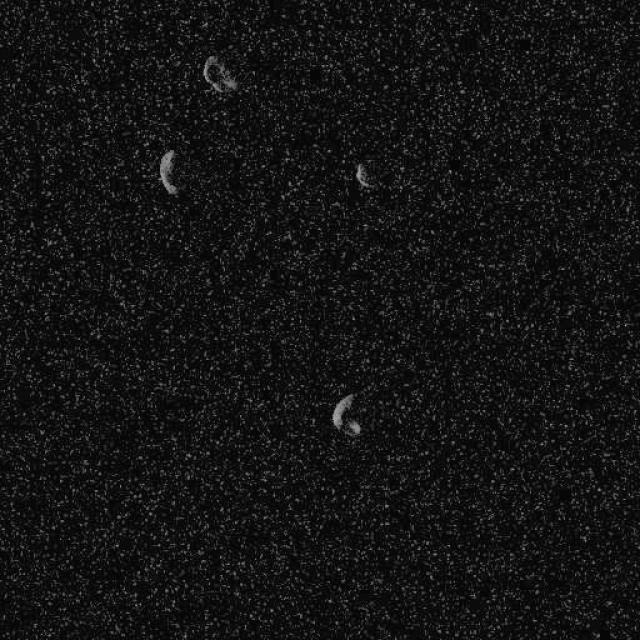D2: (202, 54, 238, 94), (330, 392, 361, 436), (158, 148, 180, 196), (353, 161, 372, 189)
